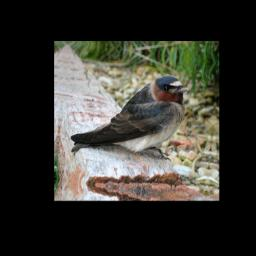Swallow: (67, 60, 192, 170)
